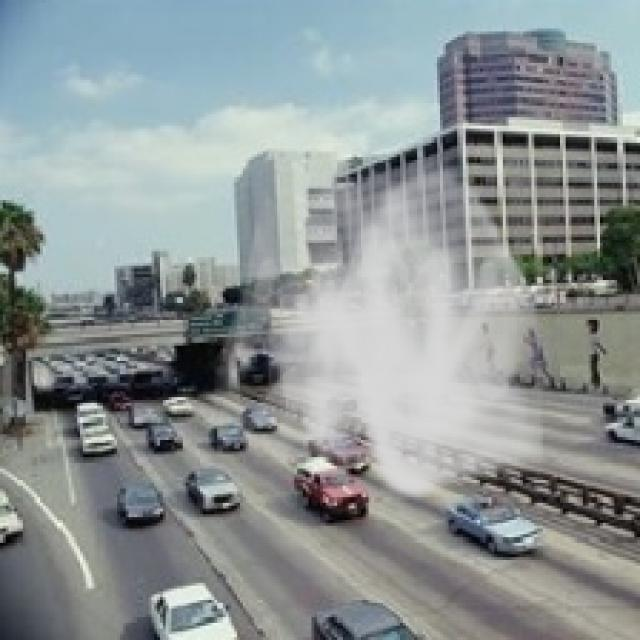smoke: (209, 148, 554, 503)
